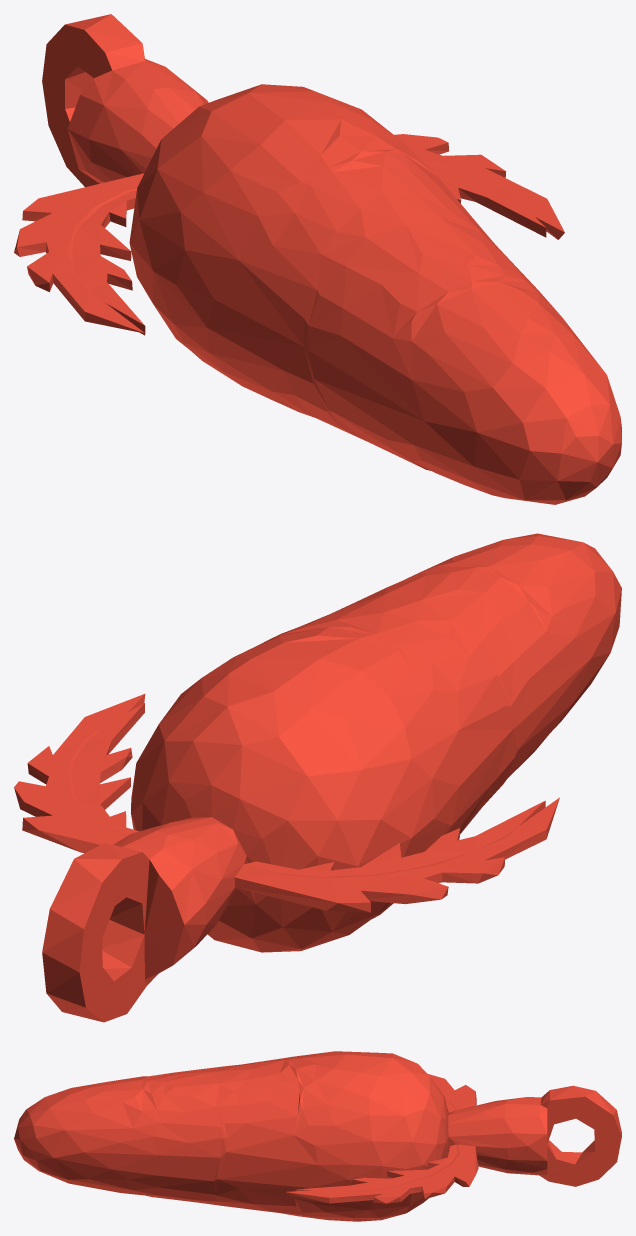
File: carrot.dae
3 renders of one model, top to bottom at view 1: azimuth 30°, elevation 25°; view 2: azimuth 150°, elevation 25°; view 3: azimuth 270°, elevation 25°, orthographic. The views are drawn at different scales.
Visible parts, largest first — view 1: node0; view 2: node0; view 3: node0.
Part boxes in pixels (x1,y1,x2,y2): node0: [14, 14, 621, 504]; node0: [14, 533, 621, 1022]; node0: [14, 1051, 621, 1221].
Bounding box in the file's own units: 0.0247 × 0.049 × 0.0137.
